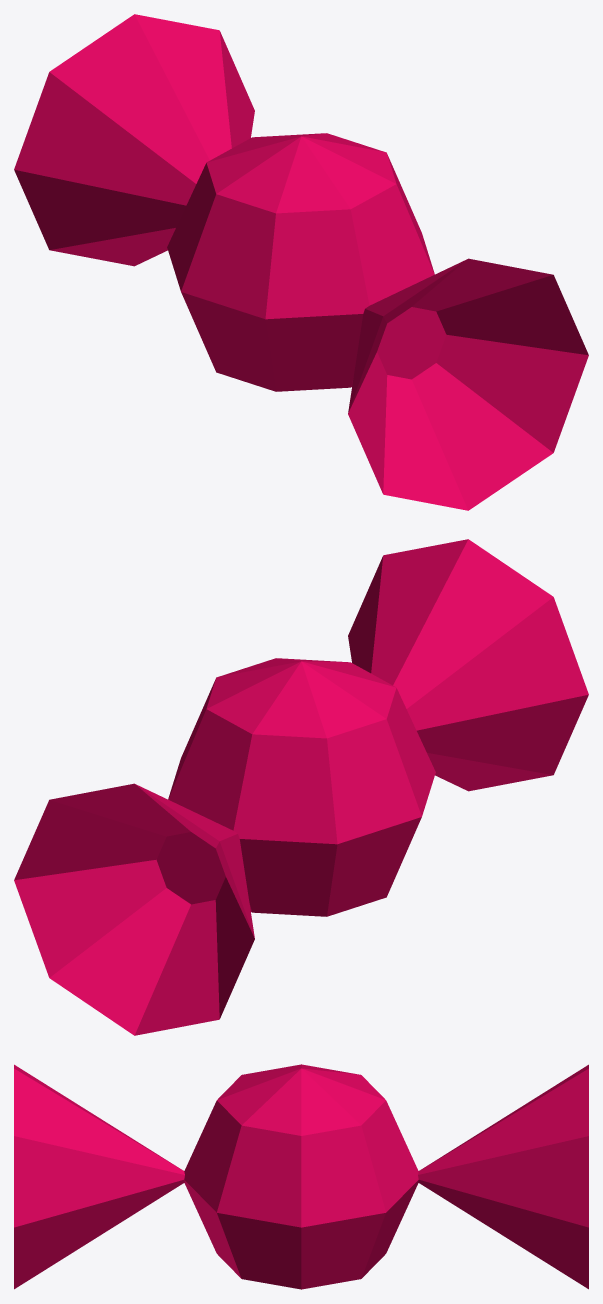
File: candy.glb
3 renders of one model, top to bottom at view 1: azimuth 30°, elevation 25°; view 2: azimuth 150°, elevation 25°; view 3: azimuth 270°, elevation 25°, orthographic. The views are drawn at different scales.
Parts seen in each view (by area): view 1: Candy; view 2: Candy; view 3: Candy.
Part boxes in pixels (bbox=[...]): Candy: bbox=[14, 14, 588, 510]; Candy: bbox=[14, 539, 588, 1035]; Candy: bbox=[14, 1064, 588, 1289].
Size of the model in its own units: 1 by 1 by 2.4.
